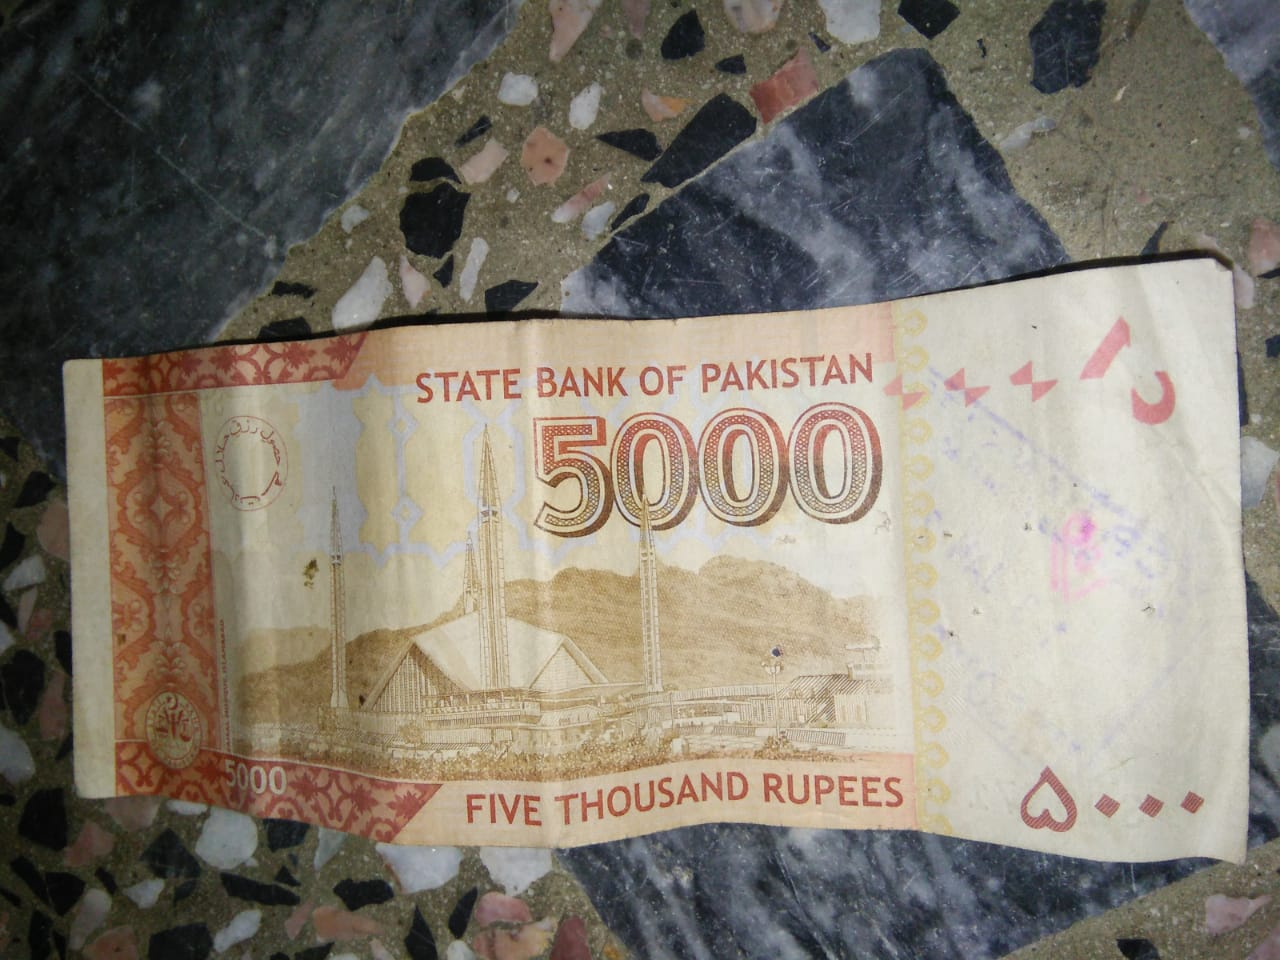5000 rupee: (65, 301, 1241, 856)
